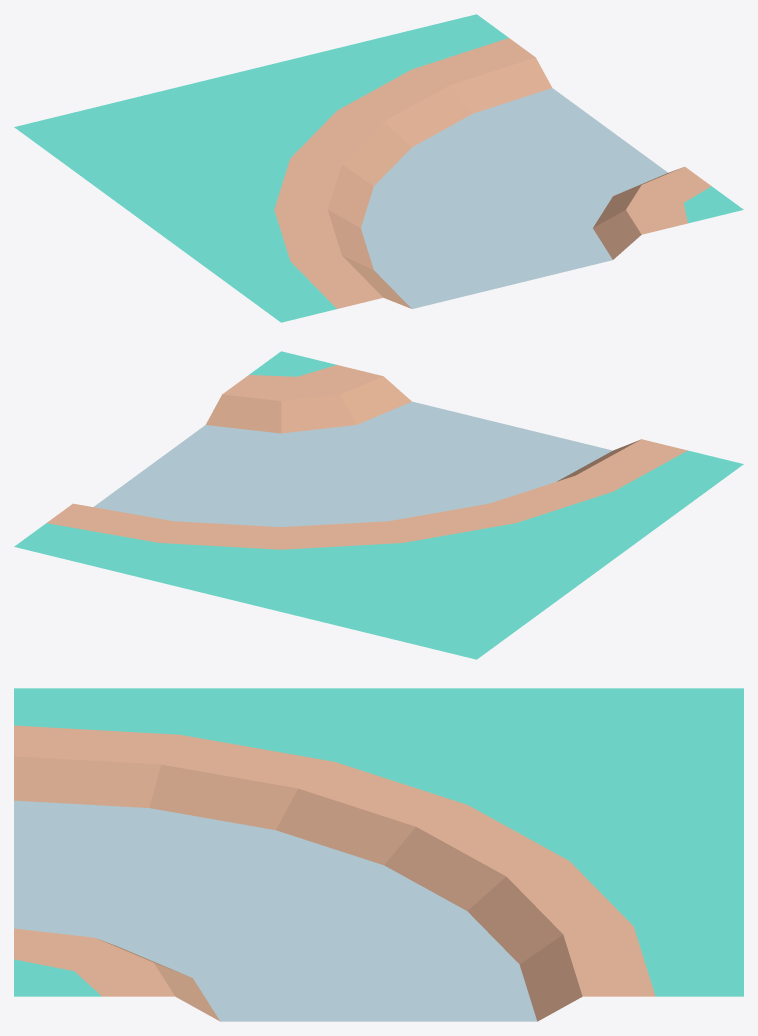
Rendered from river_bend.glb.
3 views of the same model, one above another, from view 1: azimuth 30°, elevation 25°; view 2: azimuth 150°, elevation 25°; view 3: azimuth 270°, elevation 25° (orthographic). The views are drawn at different scales.
Visible parts, largest first — view 1: ground_riverBend; view 2: ground_riverBend; view 3: ground_riverBend.
Boxes of the visible parts, box(x1,y1,x2,y2) form: ground_riverBend: box(14, 14, 743, 322); ground_riverBend: box(14, 351, 743, 659); ground_riverBend: box(14, 688, 743, 1021).
Bounding box in the file's own units: 100 × 3.79 × 100.
